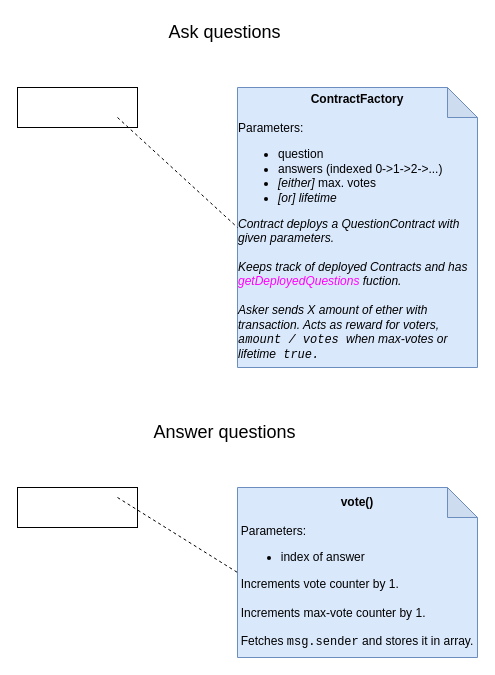
Some shapes in this 495 by 675 pixel diagram are drawn without their labels. The centre of each missing label's shape, as x and y in pixels:
"Asker calls ContractFactory" goes at (77,107).
"Voter calls vote function" goes at (77,507).
